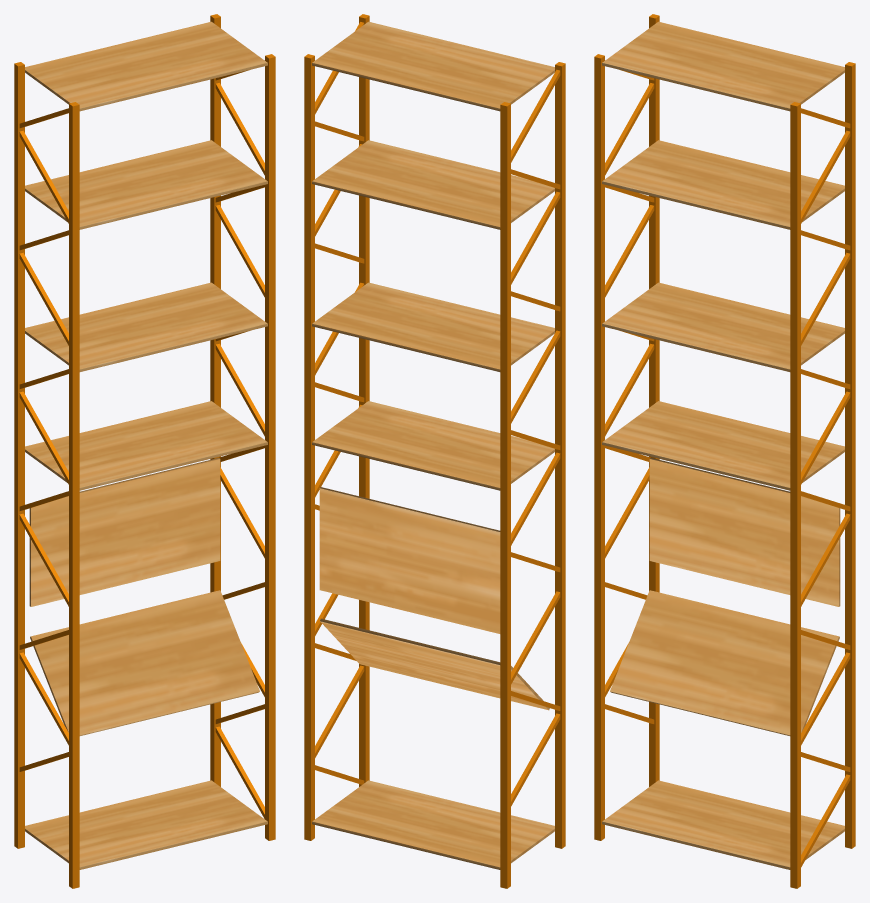
File: Industrial_Rack_12.fbx
3 views of the same model, side by side, from view 1: azimuth 30°, elevation 25°; view 2: azimuth 150°, elevation 25°; view 3: azimuth 330°, elevation 25° (orthographic).
Parts seen in each view (by area): view 1: Industrial_Rack_12; view 2: Industrial_Rack_12; view 3: Industrial_Rack_12.
Part boxes in pixels (x1,y1,x2,y2): Industrial_Rack_12: (14,14,275,888); Industrial_Rack_12: (304,14,565,888); Industrial_Rack_12: (594,14,855,888).
Size of the model in its own units: 2 by 7.37 by 1.
